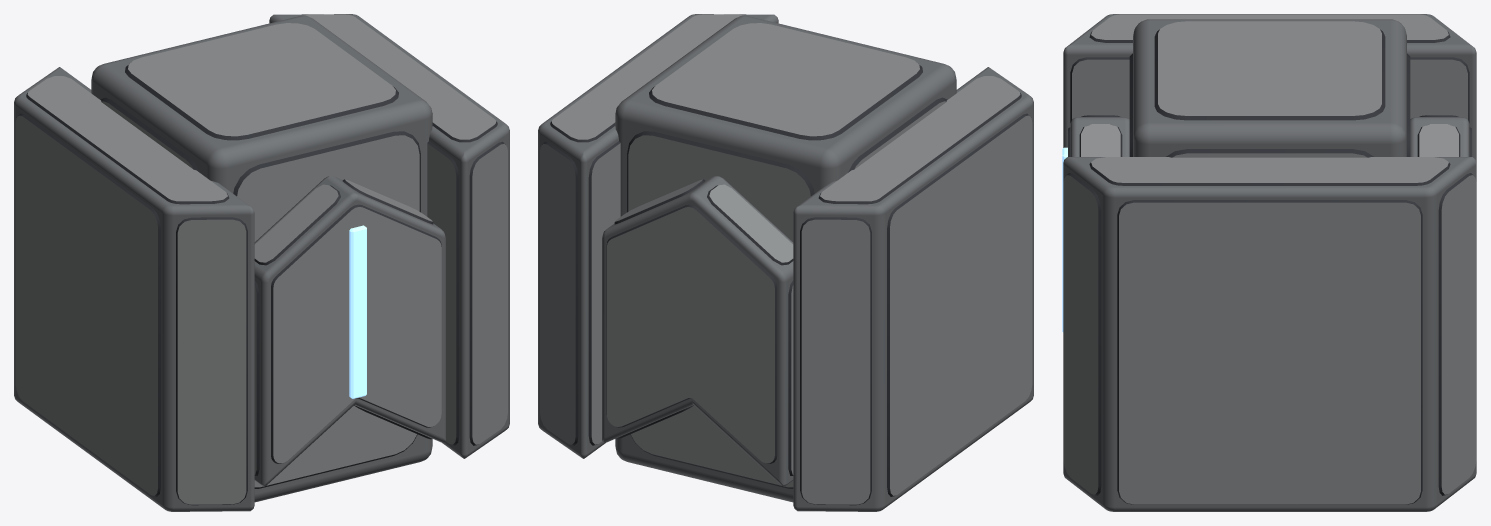
The model's file is R4X_HullBooster.glb.
3 views of the same model, side by side, from view 1: azimuth 30°, elevation 25°; view 2: azimuth 150°, elevation 25°; view 3: azimuth 270°, elevation 25° (orthographic). The views are drawn at different scales.
Visible parts, largest first — view 1: R4X_HullBooster_Body; view 2: R4X_HullBooster_Body; view 3: R4X_HullBooster_Body.
Part boxes in pixels (box(x1,y1,x2,y2)): R4X_HullBooster_Body: box(14, 14, 509, 511); R4X_HullBooster_Body: box(538, 14, 1033, 511); R4X_HullBooster_Body: box(1062, 14, 1476, 511).
Bounding box in the file's own units: 0.52 × 0.52 × 0.5028.
